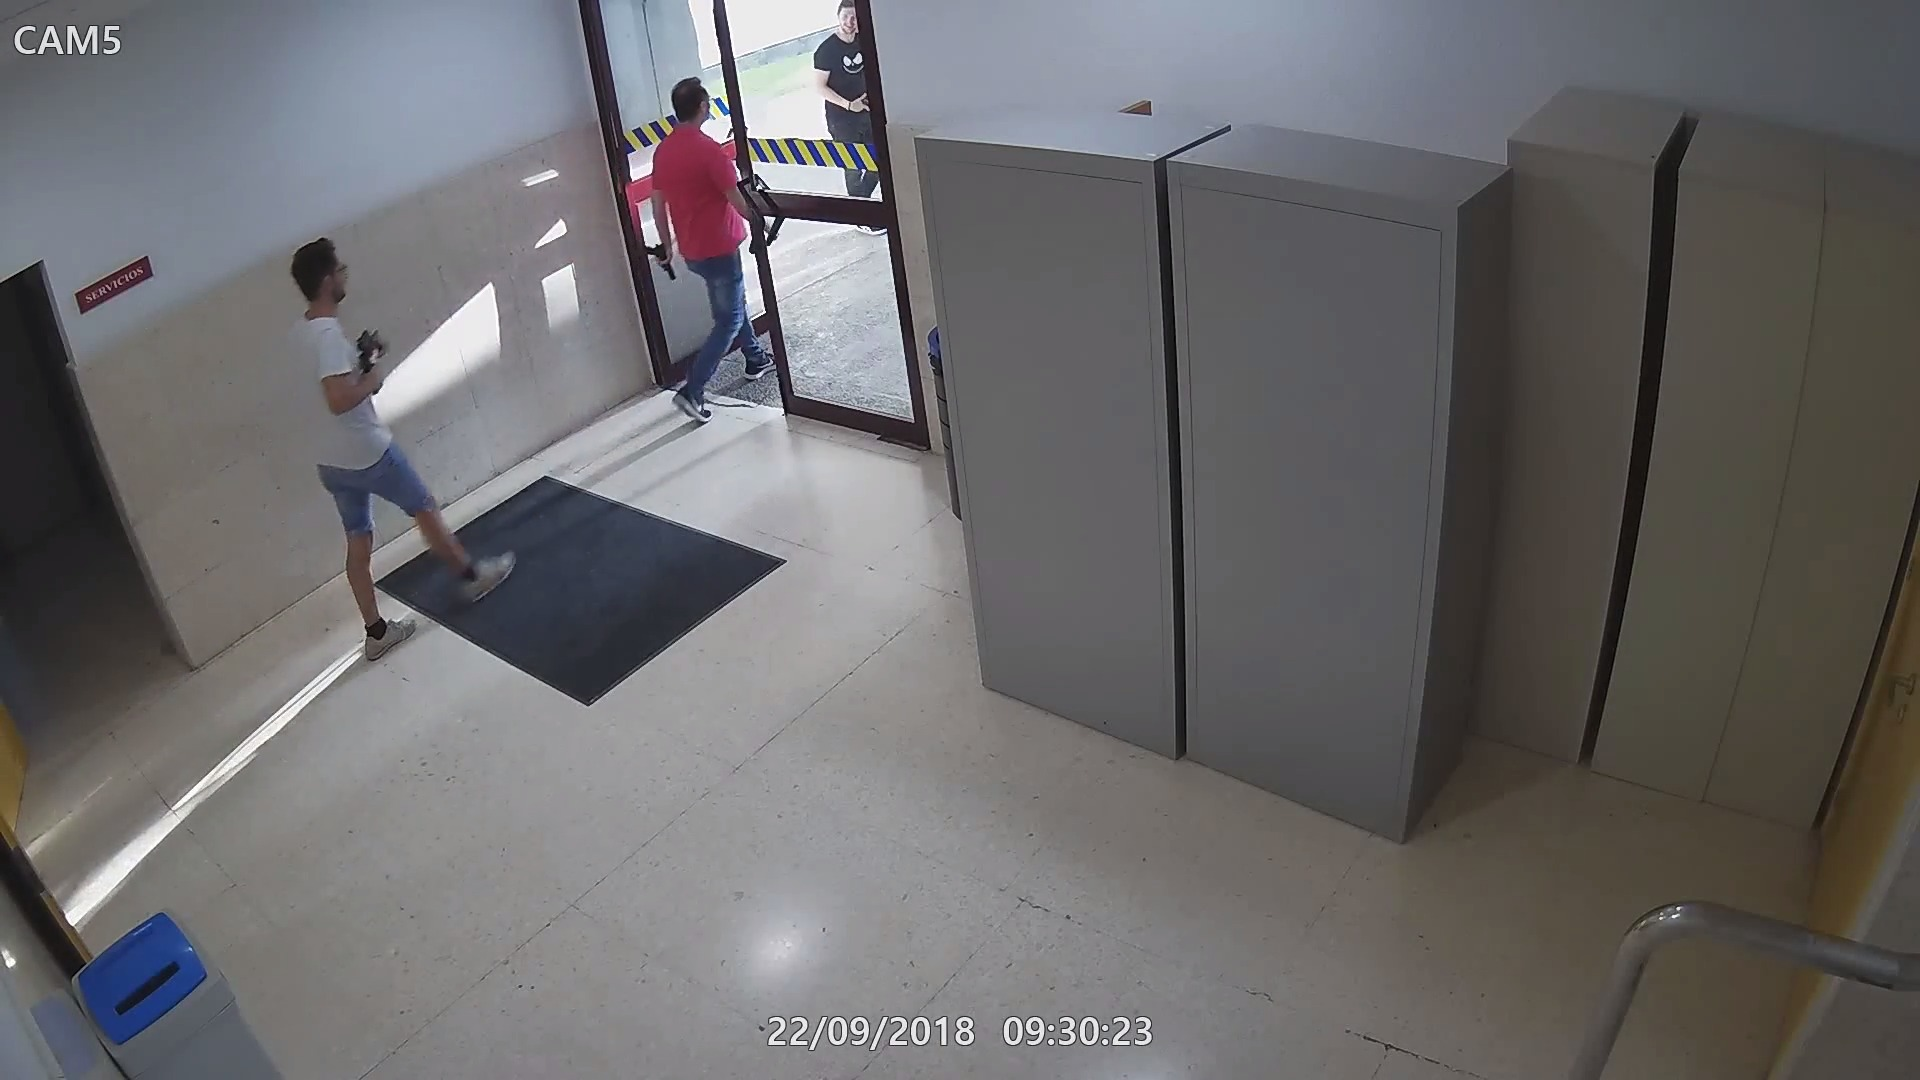Handgun: (634, 245, 676, 282)
Short_rifle: (353, 324, 386, 405)
